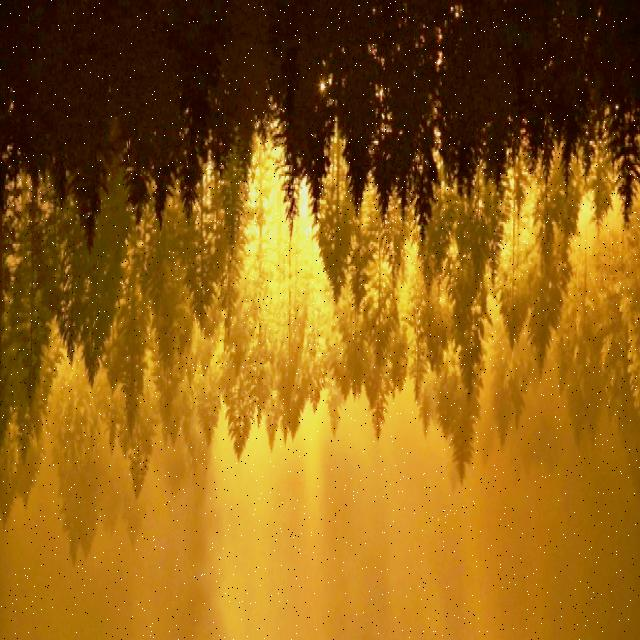api: (250, 132, 312, 236)
asap: (217, 428, 324, 636)
